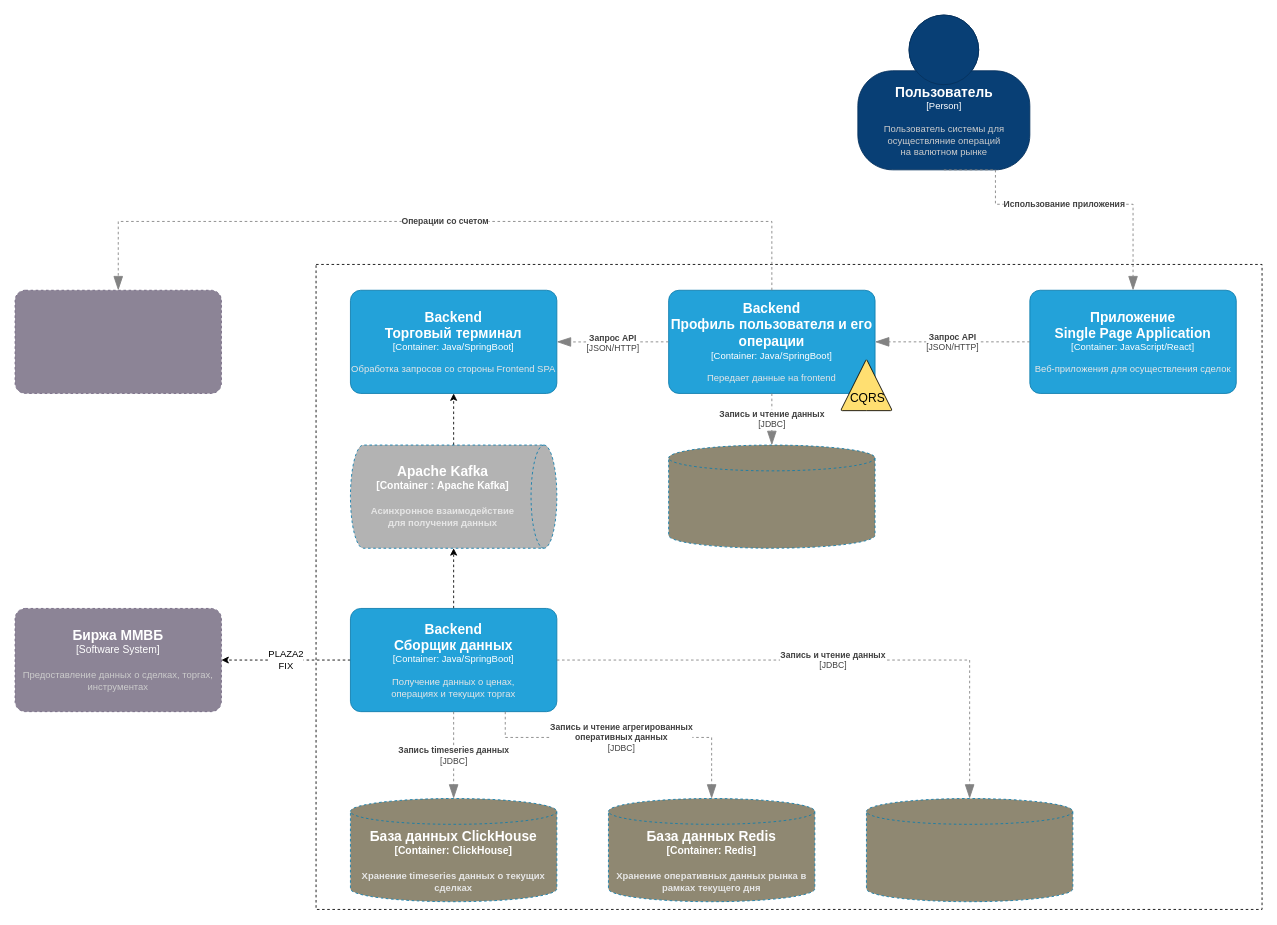
Image size: 1277x925. Some labels were removed from this diagram. The centre of each missing label's shape, as x and y in pixels:
База данных Postgres [Container: Postgres] Хранение данных пользователей: (x=771, y=496)
База данных Postgres [Container: Postgres] Хранение исторических данных: (x=969, y=850)
Онлайн-банкинг [Software System] Операции пополнения, вывода средств: (x=117, y=341)
